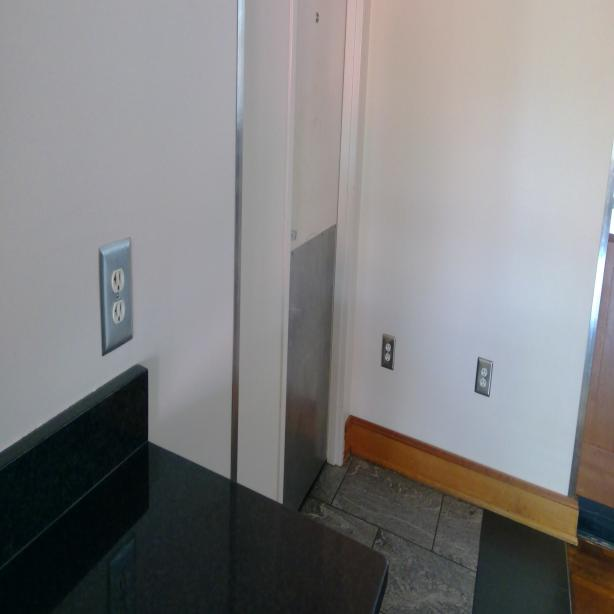typeb: (110, 263, 125, 292), (113, 302, 126, 324), (479, 377, 488, 391), (384, 350, 391, 365), (482, 364, 487, 379), (386, 342, 391, 353)
